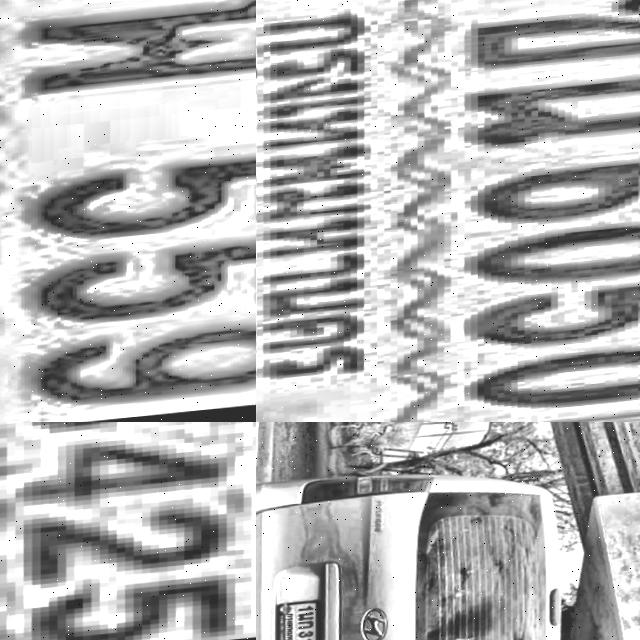license-plate: (256, 0, 640, 422), (0, 0, 256, 422), (0, 422, 256, 640), (274, 598, 333, 640)
